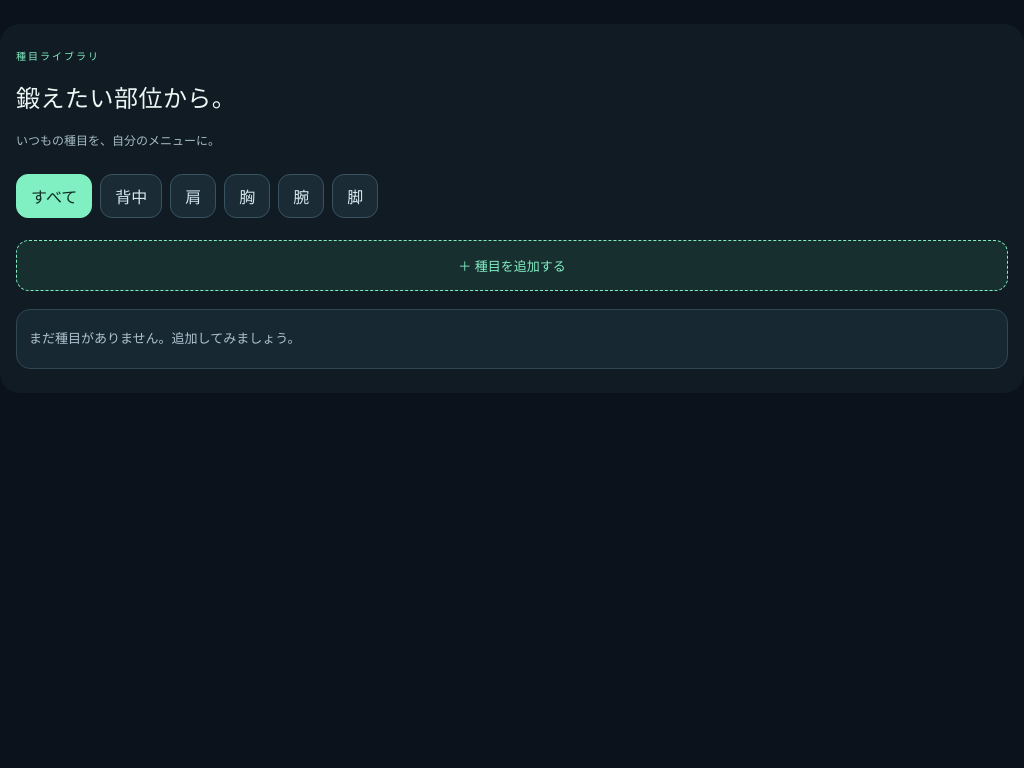
Test case: shows an empty filter and keeps input when saving fails
This screenshot has width=1024, height=768.
Expected: the list item "まだ種目がありません。追加してみましょう。" is shown, x1=16 y1=309 x2=1008 y2=369
Click the button "＋ 種目を追加する" at (512, 266), box x1=16 y1=240 x2=1008 y2=291
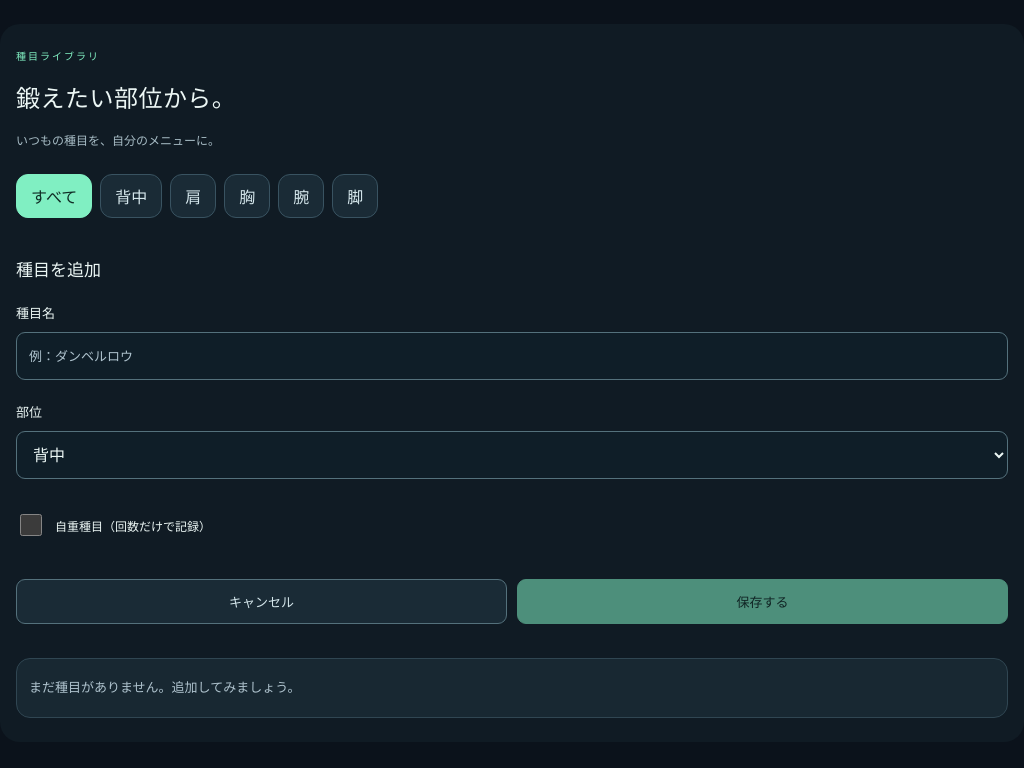
Type "ロウ" into the field labelled "種目名" at (512, 356), box x1=16 y1=332 x2=1008 y2=380
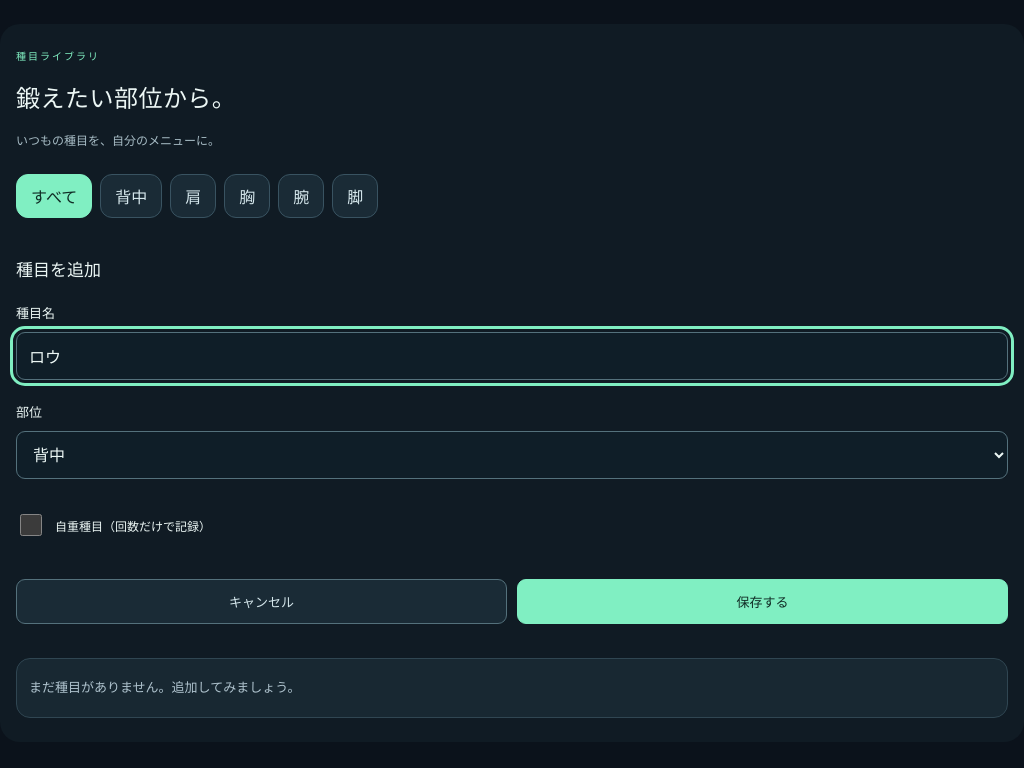
Click the button "保存する" at (762, 602), box x1=517 y1=579 x2=1008 y2=624
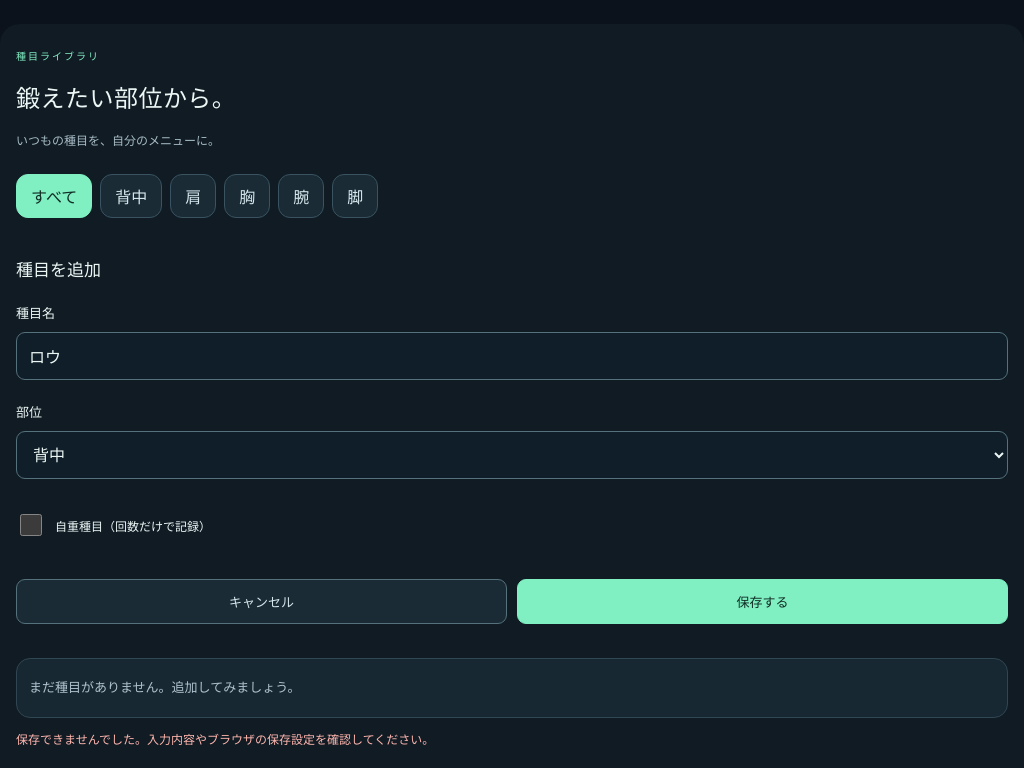
Now the message shows "保存できませんでした", box x1=16 y1=733 x2=434 y2=747
Click the button "キャンセル" at (262, 602), box x1=16 y1=579 x2=507 y2=624
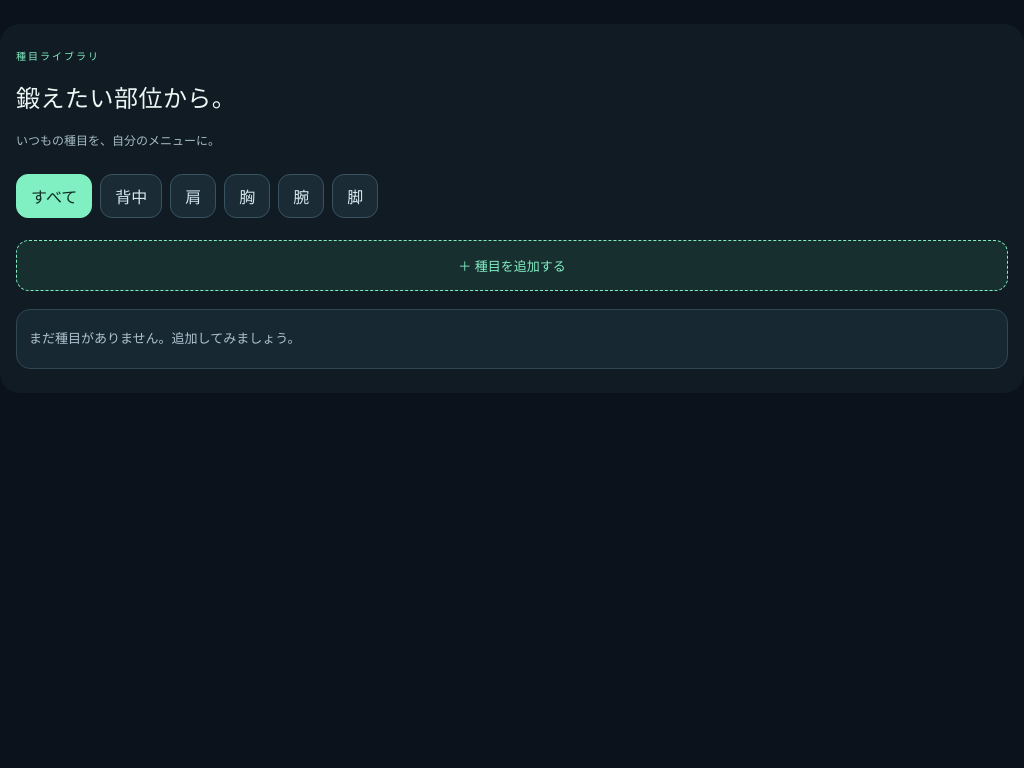
Now the label labelled "種目名" is gone
